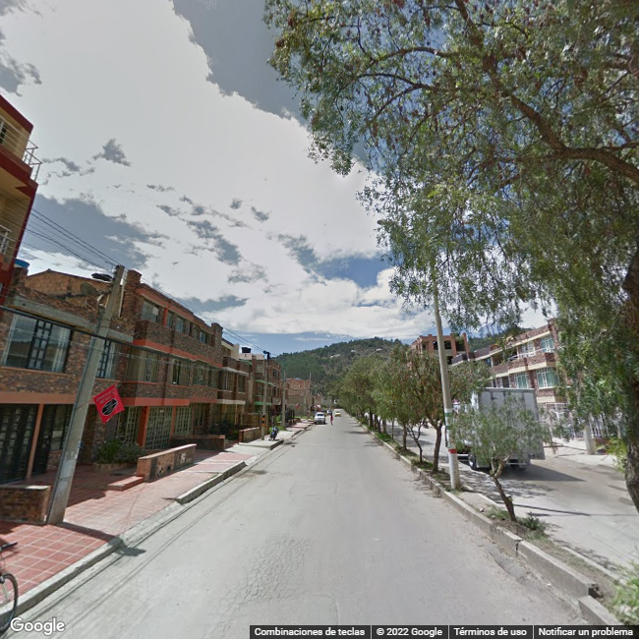D20: (241, 533, 314, 601)
